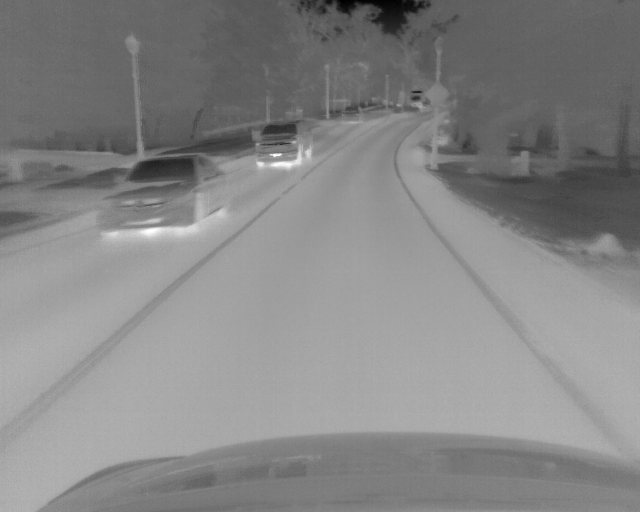car: (94, 153, 231, 235), (255, 120, 315, 169)
